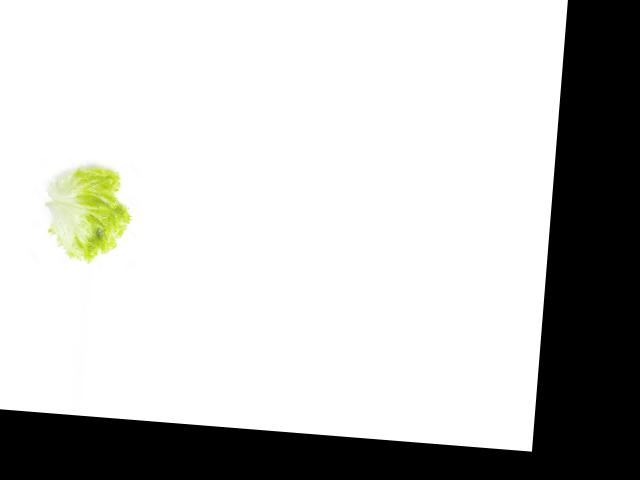lettuce: (38, 154, 131, 268)
